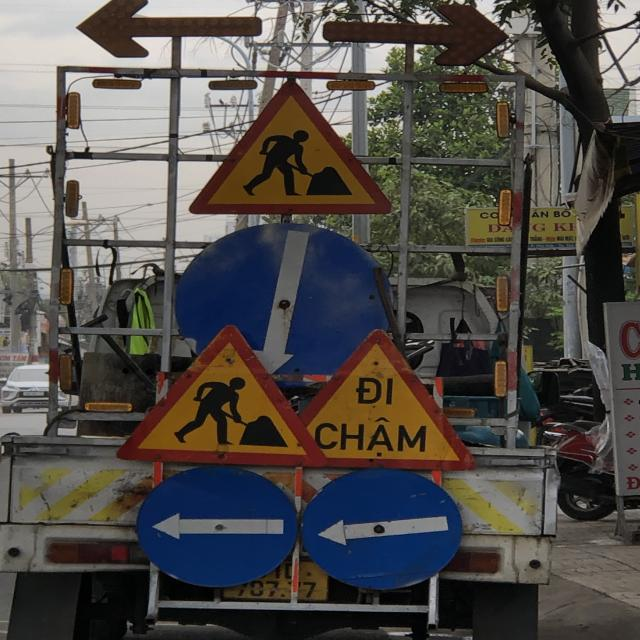Bien bao cong truong: (118, 319, 336, 473), (186, 77, 399, 223)
